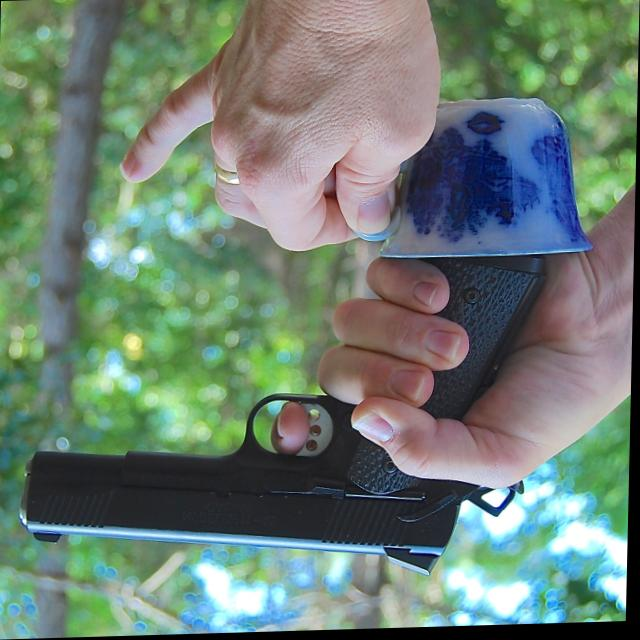handgun: (18, 257, 546, 588)
